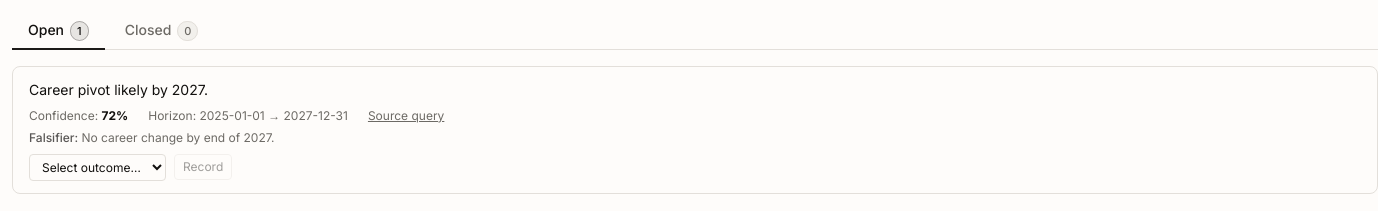
Scenario: PredictionLedgerClient › shows error message on failed outcome recording
The width and height of the screenshot is (1378, 211).
Select "confirmed" in the dropdown named "Select outcome" at (98, 167), box [29,154,166,181]
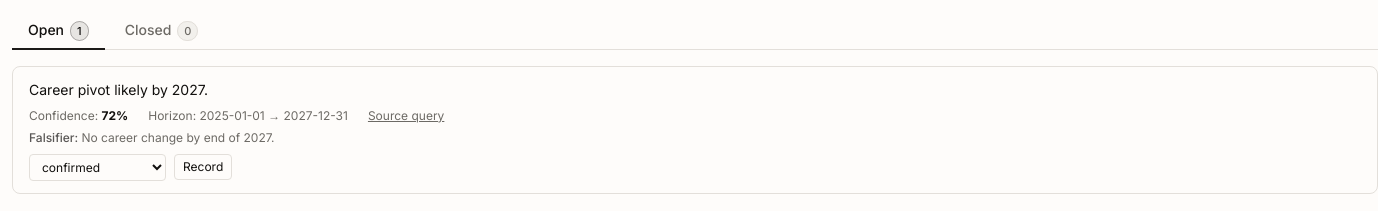
Click the button "Record" at (203, 167), box [174,154,232,180]
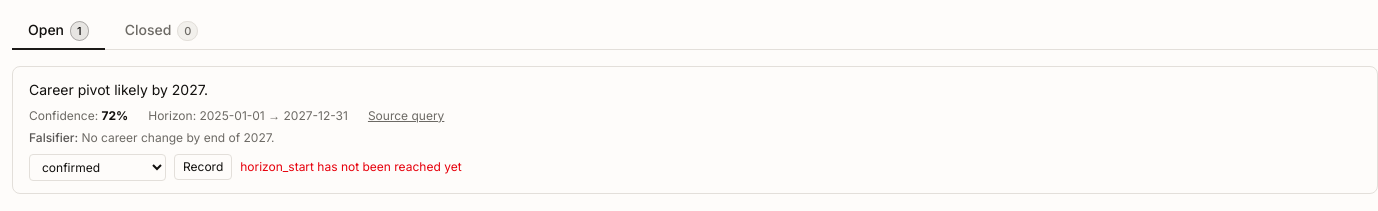
Now the message "horizon_start has not been reached yet" is shown, box [240,159,462,175]
